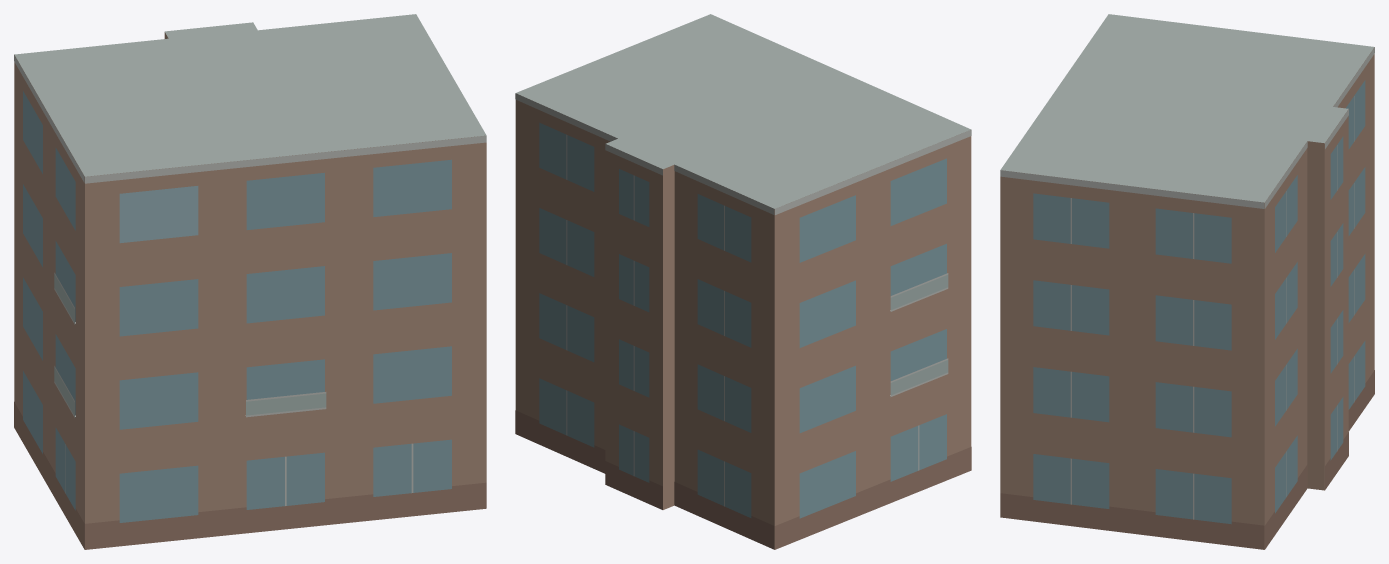
File: survey-upis-32872529.glb
3 renders of one model, left to right at view 1: azimuth 30°, elevation 25°; view 2: azimuth 150°, elevation 25°; view 3: azimuth 270°, elevation 25°, orthographic. The views are drawn at different scales.
Parts seen in each view (by area): view 1: survey-upis-32872529.tmp; view 2: survey-upis-32872529.tmp; view 3: survey-upis-32872529.tmp.
Boxes of the visible parts, box(x1,y1,x2,y2) form: survey-upis-32872529.tmp: box(14, 14, 486, 549); survey-upis-32872529.tmp: box(515, 14, 971, 549); survey-upis-32872529.tmp: box(1000, 14, 1374, 549).
Size of the model in its own units: 15.15 by 13 by 12.71.
